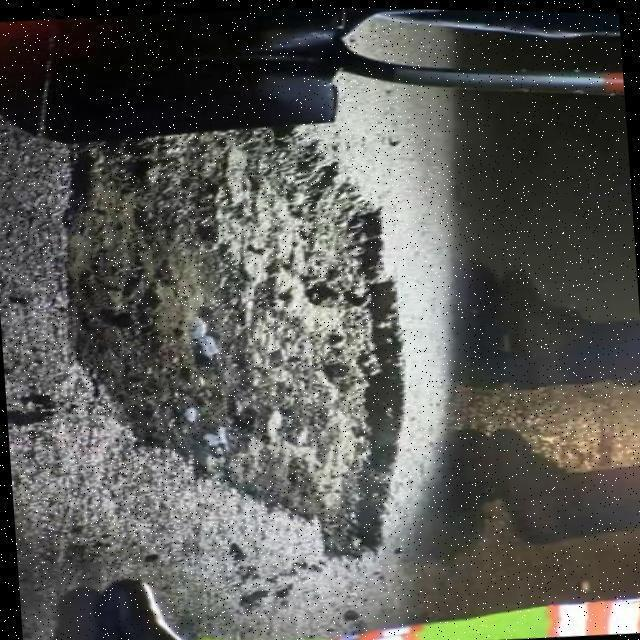Pothole: (52, 124, 409, 560)
